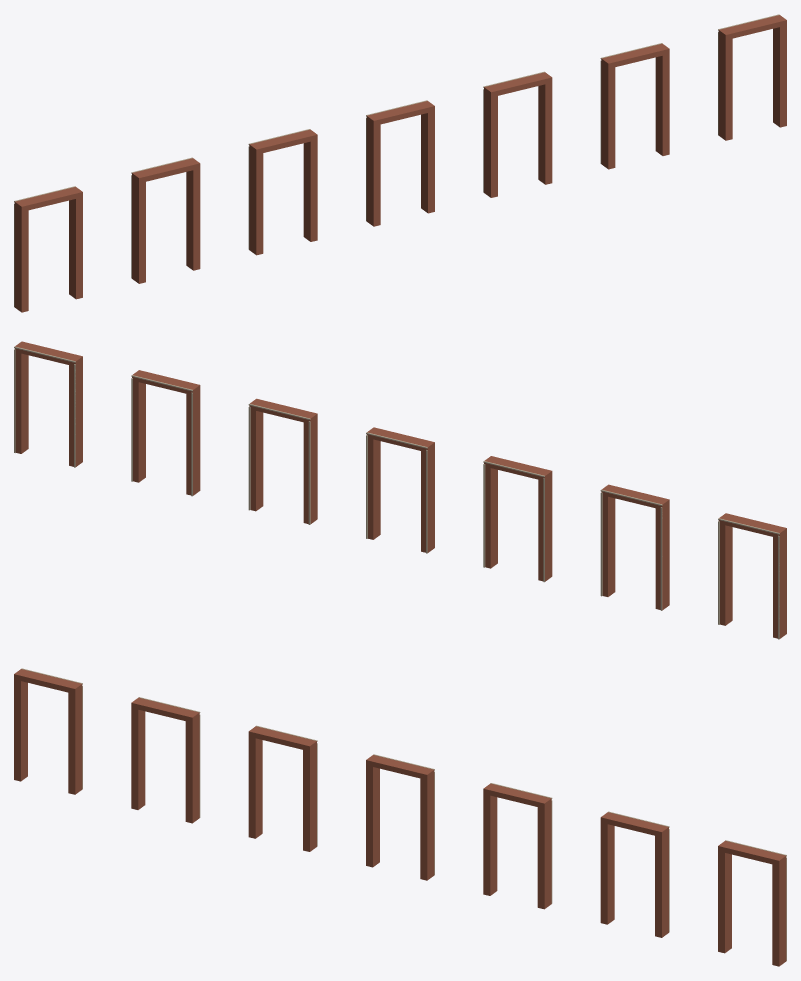
Rendered from knight-library-window-reveals-2026-11-10.glb.
3 renders of one model, top to bottom at view 1: azimuth 30°, elevation 25°; view 2: azimuth 150°, elevation 25°; view 3: azimuth 330°, elevation 25°, orthographic.
Visible parts, largest first — view 1: exterior-detail-building; view 2: exterior-detail-building; view 3: exterior-detail-building.
Part boxes in pixels (box(x1,y1,x2,y2)): exterior-detail-building: box(14, 14, 786, 312); exterior-detail-building: box(14, 341, 786, 639); exterior-detail-building: box(14, 668, 786, 966).
Size of the model in its own units: 61.3 by 8.11 by 1.08.
